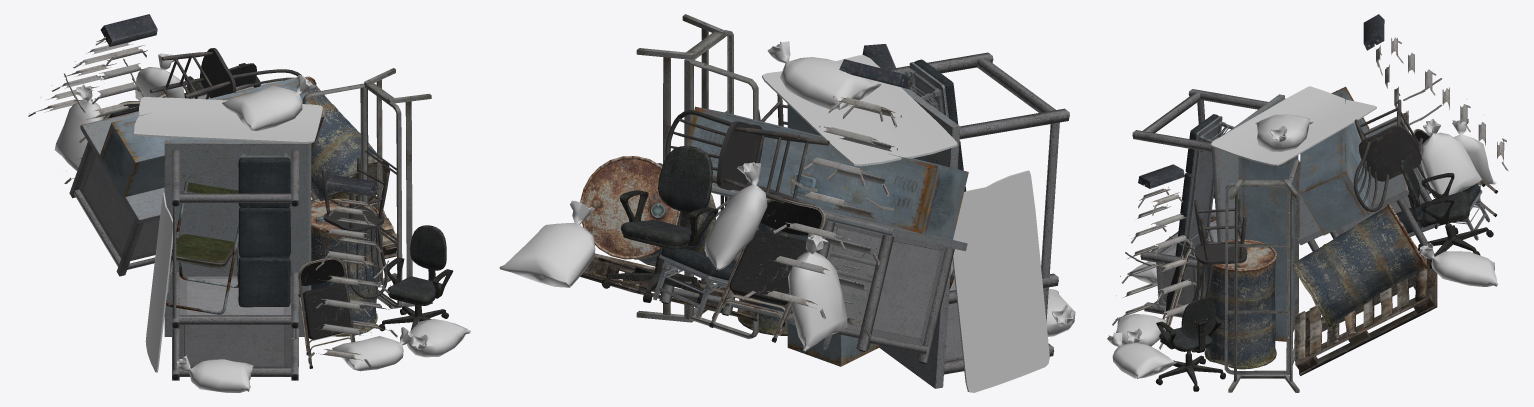
File: Barricade2.fbx
The picture shows the model from 3 angles, left to right: view 1: azimuth 30°, elevation 25°; view 2: azimuth 150°, elevation 25°; view 3: azimuth 270°, elevation 25°; orthographic projection. The views are drawn at different scales.
Parts seen in each view (by area): view 1: LOD_1_Group_0_Sub_6__sm30_093_STARSPClDesk01A_A_Mat1, LOD_1_Group_0_Sub_1__sm26_046_Sandbag04A_A_Mat__Env_default, LOD_1_Group_0_Sub_3__sm26_022_WoodBoard01A_A_Mat, LOD_1_Group_0_Sub_7__sm30_163_Foldingladder03A_A_Mat, LOD_1_Group_0_Sub_11__sm30_126_BenchA01A_A_Mat1, LOD_1_Group_0_Sub_13__sm26_013_oilCan01A_A_Mat, LOD_1_Group_0_Sub_8__sm30_115_cafeChair01A_A_Mat, LOD_1_Group_0_Sub_12__sm30_002_OfficeSofa01A_A_Mat1, LOD_1_Group_0_Sub_10__sm30_051_Locker01A_A_Mat1, LOD_1_Group_0_Sub_9__sm30_057_OfficeChair_A_Mat, LOD_1_Group_0_Sub_5__sm30_153_FoldingChair01A_A_Mat, LOD_1_Group_0_Sub_4__sm30_056_FoldingChair01A_A_Mat1 (+1 smaller); view 2: LOD_1_Group_0_Sub_3__sm26_022_WoodBoard01A_A_Mat, LOD_1_Group_0_Sub_6__sm30_093_STARSPClDesk01A_A_Mat1, LOD_1_Group_0_Sub_1__sm26_046_Sandbag04A_A_Mat__Env_default, LOD_1_Group_0_Sub_10__sm30_051_Locker01A_A_Mat1, LOD_1_Group_0_Sub_13__sm26_013_oilCan01A_A_Mat, LOD_1_Group_0_Sub_9__sm30_057_OfficeChair_A_Mat, LOD_1_Group_0_Sub_7__sm30_163_Foldingladder03A_A_Mat, LOD_1_Group_0_Sub_5__sm30_153_FoldingChair01A_A_Mat, LOD_1_Group_0_Sub_12__sm30_002_OfficeSofa01A_A_Mat1, LOD_1_Group_0_Sub_8__sm30_115_cafeChair01A_A_Mat, LOD_1_Group_0_Sub_11__sm30_126_BenchA01A_A_Mat1, LOD_1_Group_0_Sub_2__sm26_003_Palette01A_A_Mat; view 3: LOD_1_Group_0_Sub_13__sm26_013_oilCan01A_A_Mat, LOD_1_Group_0_Sub_1__sm26_046_Sandbag04A_A_Mat__Env_default, LOD_1_Group_0_Sub_10__sm30_051_Locker01A_A_Mat1, LOD_1_Group_0_Sub_6__sm30_093_STARSPClDesk01A_A_Mat1, LOD_1_Group_0_Sub_9__sm30_057_OfficeChair_A_Mat, LOD_1_Group_0_Sub_2__sm26_003_Palette01A_A_Mat, LOD_1_Group_0_Sub_8__sm30_115_cafeChair01A_A_Mat, LOD_1_Group_0_Sub_7__sm30_163_Foldingladder03A_A_Mat, LOD_1_Group_0_Sub_12__sm30_002_OfficeSofa01A_A_Mat1, LOD_1_Group_0_Sub_3__sm26_022_WoodBoard01A_A_Mat, LOD_1_Group_0_Sub_11__sm30_126_BenchA01A_A_Mat1, LOD_1_Group_0_Sub_5__sm30_153_FoldingChair01A_A_Mat.
Boxes of the visible parts, box(x1,y1,x2,y2) form: LOD_1_Group_0_Sub_6__sm30_093_STARSPClDesk01A_A_Mat1: box(69, 83, 311, 380); LOD_1_Group_0_Sub_1__sm26_046_Sandbag04A_A_Mat__Env_default: box(54, 53, 470, 392); LOD_1_Group_0_Sub_3__sm26_022_WoodBoard01A_A_Mat: box(134, 97, 322, 372); LOD_1_Group_0_Sub_7__sm30_163_Foldingladder03A_A_Mat: box(28, 14, 397, 367); LOD_1_Group_0_Sub_11__sm30_126_BenchA01A_A_Mat1: box(184, 93, 290, 307); LOD_1_Group_0_Sub_13__sm26_013_oilCan01A_A_Mat: box(305, 76, 389, 336); LOD_1_Group_0_Sub_8__sm30_115_cafeChair01A_A_Mat: box(150, 48, 389, 298); LOD_1_Group_0_Sub_12__sm30_002_OfficeSofa01A_A_Mat1: box(302, 68, 432, 308); LOD_1_Group_0_Sub_10__sm30_051_Locker01A_A_Mat1: box(99, 77, 324, 197); LOD_1_Group_0_Sub_9__sm30_057_OfficeChair_A_Mat: box(184, 63, 453, 331); LOD_1_Group_0_Sub_5__sm30_153_FoldingChair01A_A_Mat: box(103, 93, 355, 368); LOD_1_Group_0_Sub_4__sm30_056_FoldingChair01A_A_Mat1: box(166, 181, 238, 314); LOD_1_Group_0_Sub_3__sm26_022_WoodBoard01A_A_Mat: box(762, 55, 1049, 392); LOD_1_Group_0_Sub_6__sm30_093_STARSPClDesk01A_A_Mat1: box(659, 52, 1069, 388); LOD_1_Group_0_Sub_1__sm26_046_Sandbag04A_A_Mat__Env_default: box(499, 41, 1075, 351); LOD_1_Group_0_Sub_10__sm30_051_Locker01A_A_Mat1: box(686, 104, 968, 366); LOD_1_Group_0_Sub_13__sm26_013_oilCan01A_A_Mat: box(580, 156, 787, 335); LOD_1_Group_0_Sub_9__sm30_057_OfficeChair_A_Mat: box(601, 146, 727, 303); LOD_1_Group_0_Sub_7__sm30_163_Foldingladder03A_A_Mat: box(742, 44, 912, 338); LOD_1_Group_0_Sub_5__sm30_153_FoldingChair01A_A_Mat: box(709, 199, 825, 342); LOD_1_Group_0_Sub_12__sm30_002_OfficeSofa01A_A_Mat1: box(636, 14, 758, 338); LOD_1_Group_0_Sub_8__sm30_115_cafeChair01A_A_Mat: box(665, 94, 829, 205); LOD_1_Group_0_Sub_11__sm30_126_BenchA01A_A_Mat1: box(653, 59, 966, 349); LOD_1_Group_0_Sub_2__sm26_003_Palette01A_A_Mat: box(580, 253, 761, 321); LOD_1_Group_0_Sub_13__sm26_013_oilCan01A_A_Mat: box(1204, 203, 1428, 369); LOD_1_Group_0_Sub_1__sm26_046_Sandbag04A_A_Mat__Env_default: box(1107, 114, 1498, 378); LOD_1_Group_0_Sub_10__sm30_051_Locker01A_A_Mat1: box(1238, 86, 1369, 341); LOD_1_Group_0_Sub_6__sm30_093_STARSPClDesk01A_A_Mat1: box(1132, 89, 1434, 317); LOD_1_Group_0_Sub_9__sm30_057_OfficeChair_A_Mat: box(1155, 159, 1493, 391); LOD_1_Group_0_Sub_2__sm26_003_Palette01A_A_Mat: box(1294, 254, 1437, 375); LOD_1_Group_0_Sub_8__sm30_115_cafeChair01A_A_Mat: box(1192, 99, 1423, 301); LOD_1_Group_0_Sub_7__sm30_163_Foldingladder03A_A_Mat: box(1112, 14, 1508, 349); LOD_1_Group_0_Sub_12__sm30_002_OfficeSofa01A_A_Mat1: box(1224, 160, 1300, 392); LOD_1_Group_0_Sub_3__sm26_022_WoodBoard01A_A_Mat: box(1210, 86, 1376, 165); LOD_1_Group_0_Sub_11__sm30_126_BenchA01A_A_Mat1: box(1175, 114, 1489, 259); LOD_1_Group_0_Sub_5__sm30_153_FoldingChair01A_A_Mat: box(1160, 129, 1497, 342).
Size of the model in its own units: 2.75 by 2.58 by 3.65.
